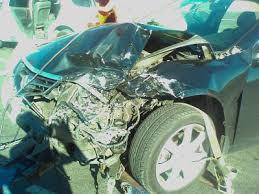bonnet-dent: (52, 13, 204, 87)
fender-dent: (190, 62, 244, 123)
